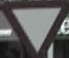Give way: (2, 1, 63, 54)
